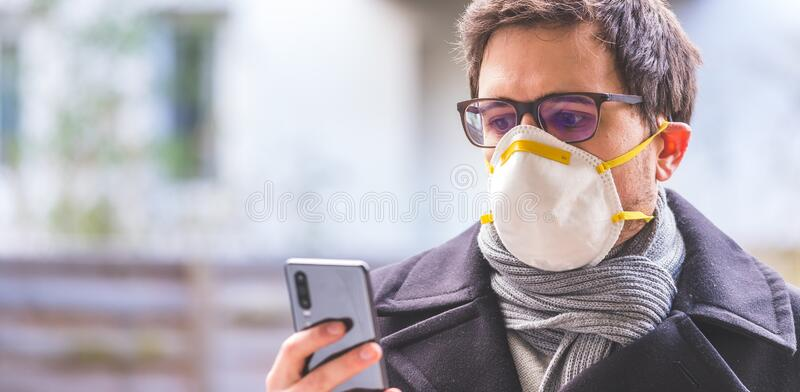n95: (463, 123, 634, 267)
